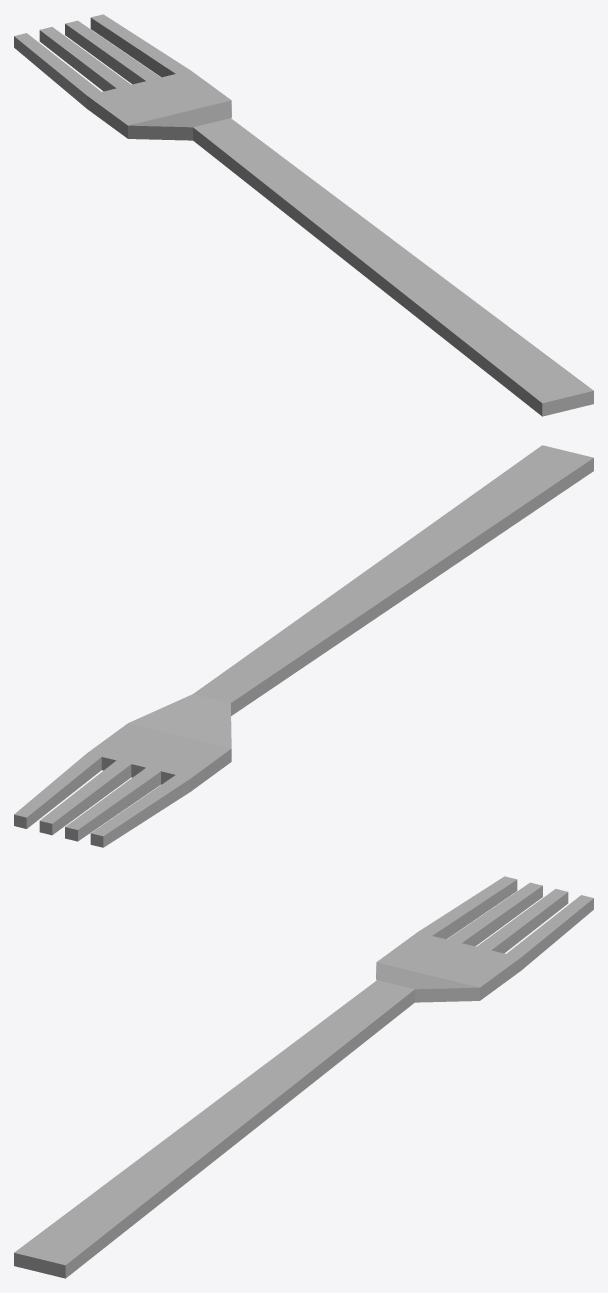
Rendered from KitchenProps_02.fbx.
3 views of the same model, one above another, from view 1: azimuth 30°, elevation 25°; view 2: azimuth 150°, elevation 25°; view 3: azimuth 330°, elevation 25° (orthographic).
Visible parts, largest first — view 1: KitchenProps_02; view 2: KitchenProps_02; view 3: KitchenProps_02.
Boxes of the visible parts, x1,y1,x2,y2 form: KitchenProps_02: (14, 14, 593, 416); KitchenProps_02: (14, 445, 593, 847); KitchenProps_02: (14, 876, 593, 1278).
Bounding box in the file's own units: 2.27 × 0.5653 × 19.28.
